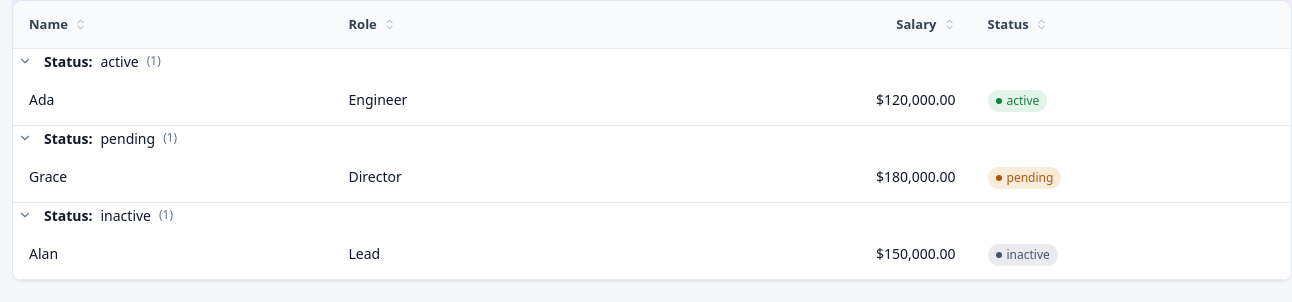
it: <SmartDataGrid> › collapses and reopens a group when its row is clicked
Expected: the text "Ada" is shown, [29,90,54,109]
Click the row with class "sdg-group-row" showing "Status: active (1)": (652, 62) [13,49,1291,74]
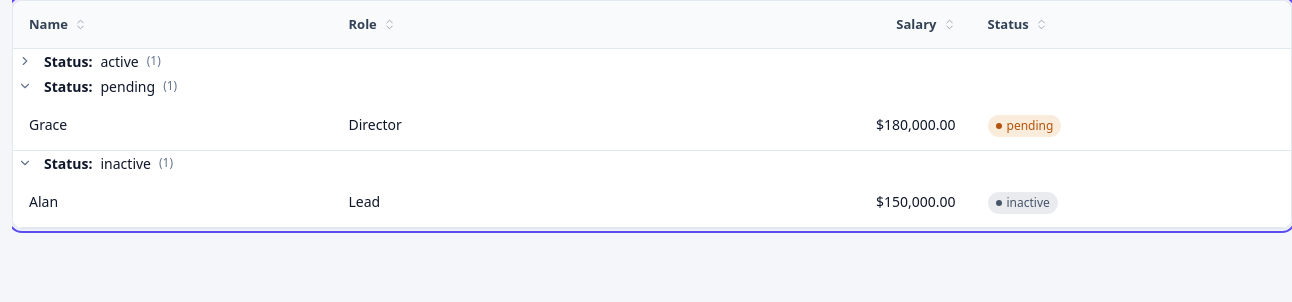
Expected: the text "Ada" is gone
Expected: the button named "Expand group" is collapsed, [14,50,36,72]
Click the row with class "sdg-group-row" showing "Status: active (1)": (652, 62) [13,49,1291,74]
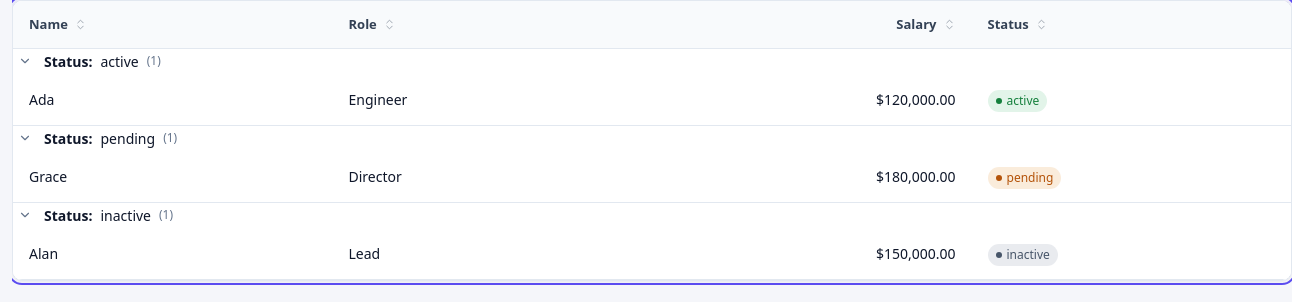
Expected: the text "Ada" is shown, [29,90,54,109]
